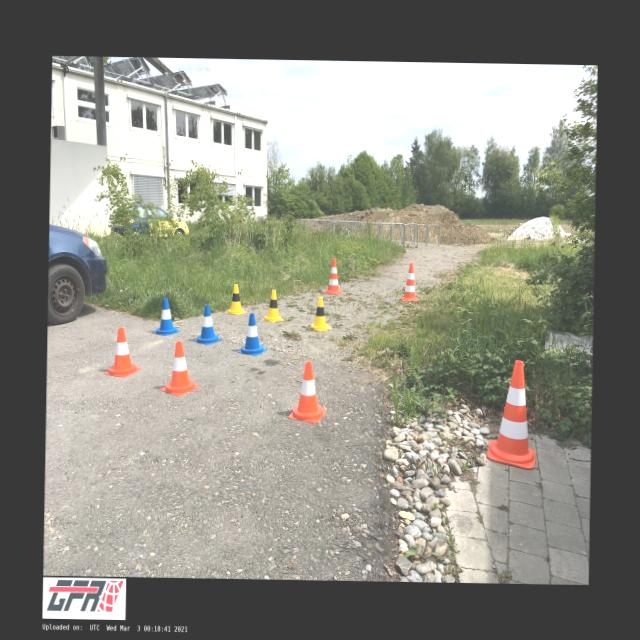blue_cone: (238, 313, 266, 355), (151, 297, 181, 336), (194, 304, 222, 344)
large_orange_cone: (486, 360, 536, 470), (401, 262, 419, 301), (324, 257, 342, 293)
orange_cone: (158, 340, 200, 396), (288, 363, 327, 423), (104, 328, 142, 378)
yellow_cone: (309, 296, 332, 332), (260, 290, 284, 322), (225, 284, 247, 314)
